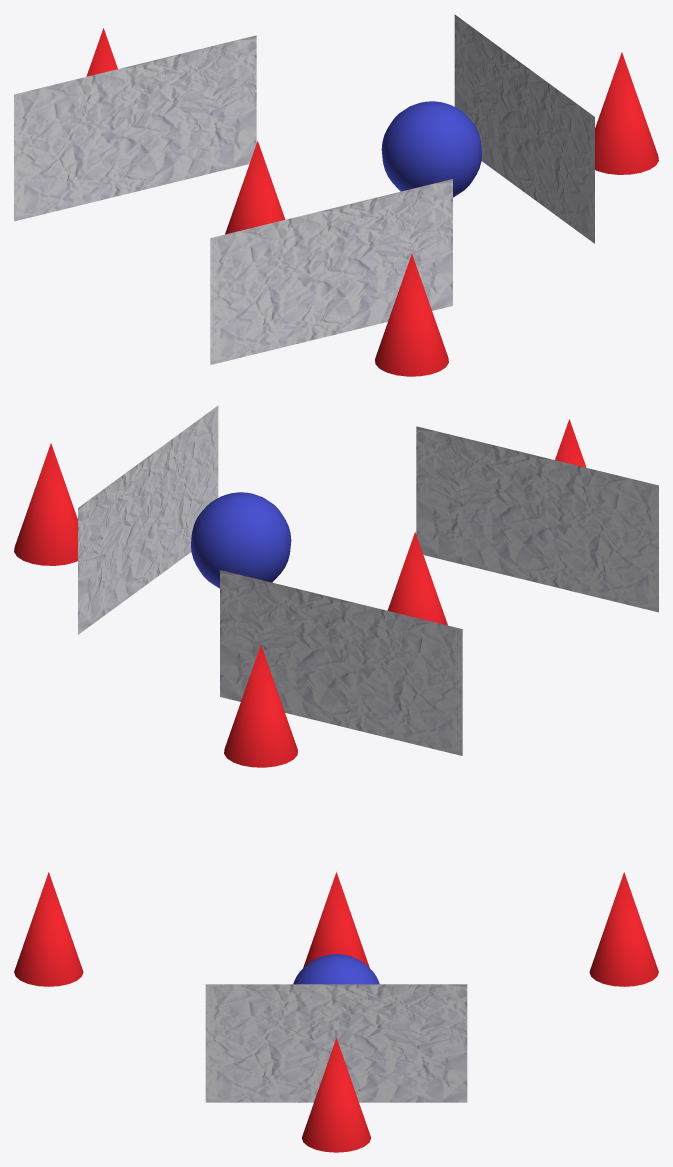
File: bspTest.obj
3 renders of one model, top to bottom at view 1: azimuth 30°, elevation 25°; view 2: azimuth 150°, elevation 25°; view 3: azimuth 270°, elevation 25°, orthographic. The views are drawn at different scales.
Visible parts, largest first — view 1: bsp_2, bsp_1, bsp_3, Sphere, Cone1, Cone4, Cone2, Cone3; view 2: bsp_1, bsp_2, bsp_3, Sphere, Cone3, Cone4, Cone2, Cone1; view 3: bsp_3, Cone3, Cone1, Cone4, Cone2, Sphere.
Part boxes in pixels (x1,y1,x2,y2): bsp_2: (14,35,256,221); bsp_1: (210,179,452,364); bsp_3: (454,14,594,243); Sphere: (381,101,481,197); Cone1: (375,254,448,376); Cone4: (595,52,658,174); Cone2: (225,141,285,234); Cone3: (86,28,117,76); bsp_1: (416,426,658,612); bsp_2: (220,570,462,755); bsp_3: (78,405,218,634); Sphere: (191,492,291,588); Cone3: (224,645,297,767); Cone4: (14,443,77,565); Cone2: (387,532,447,625); Cone1: (555,419,586,467); bsp_3: (205,984,467,1102); Cone3: (589,872,658,986); Cone1: (14,872,83,986); Cone4: (302,1037,370,1152); Cone2: (303,872,369,967); Sphere: (293,954,379,984).
Size of the model in its own units: 22.33 by 5 by 24.66.
3 materials, 3 textured.
